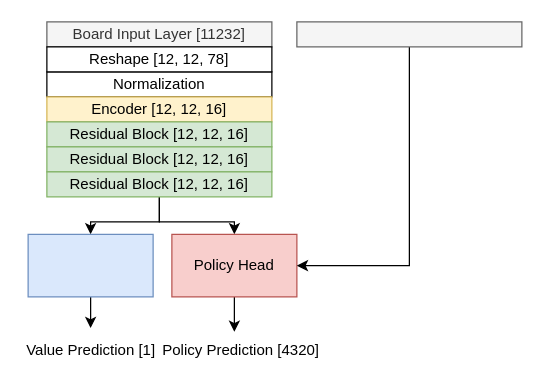
This 544x391 diagram has some shape labels left out. The box of each missing label's shape, as (x1, y1, x2, y2) in pixels:
Mask Input layer [4320]: (296, 21, 522, 47)
Value Head: (27, 233, 153, 297)
